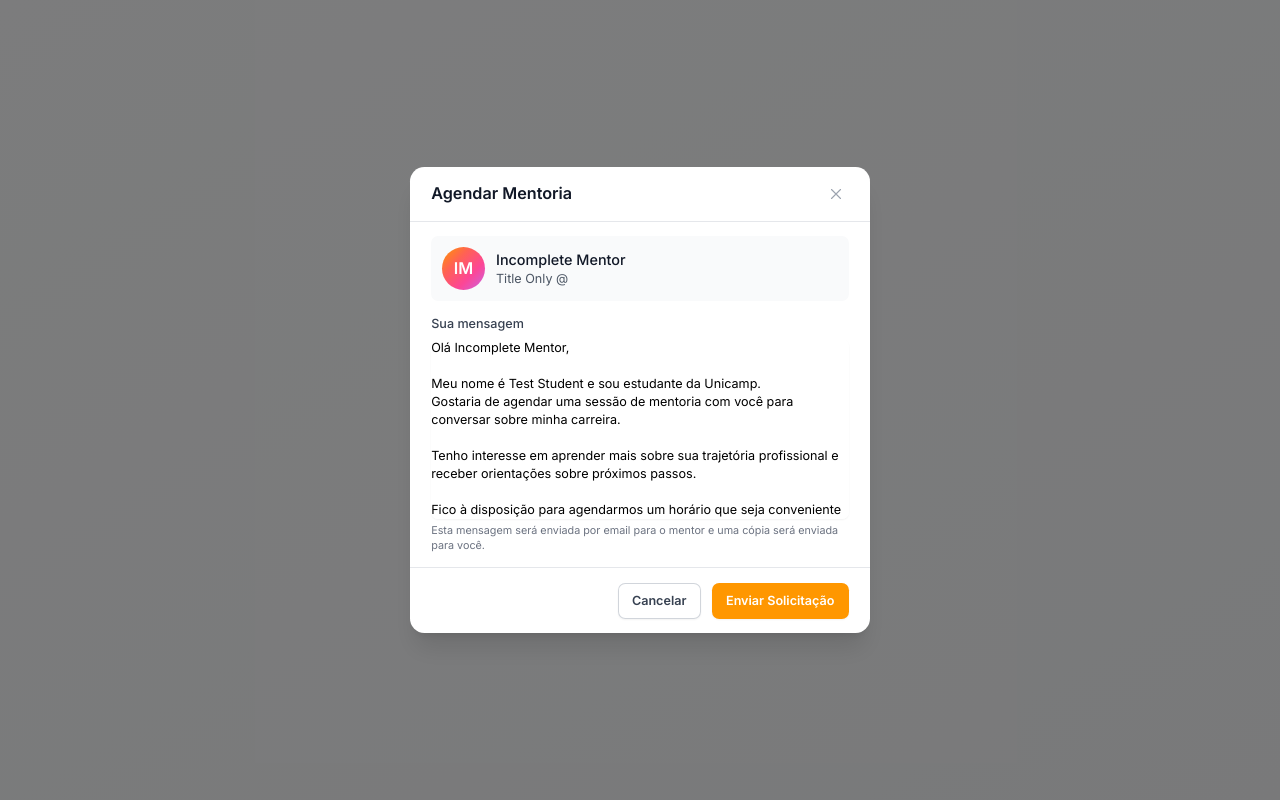
BookingModal › validation › shows error when multiple mentor fields are missing
Click the button "Enviar Solicitação": (780, 601) x1=712 y1=583 x2=849 y2=619
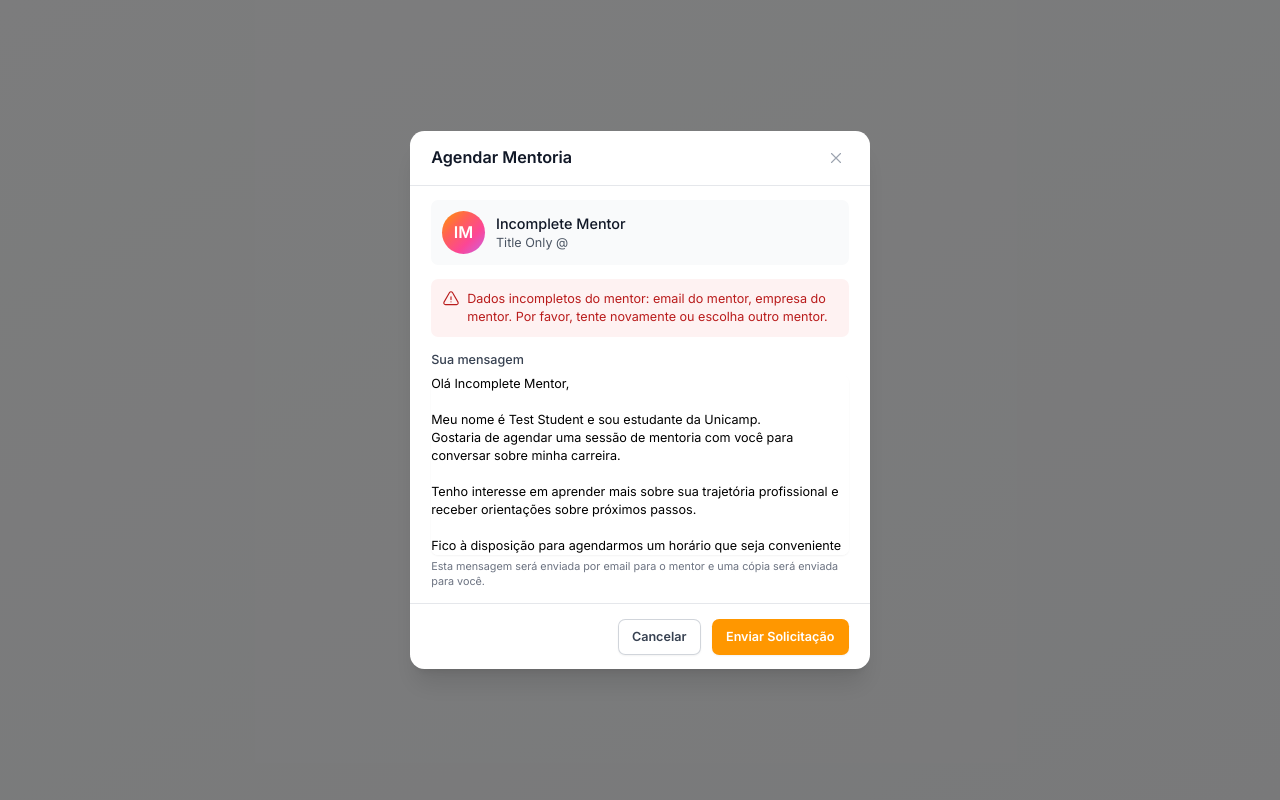
Result: the text "Dados incompletos do mentor" is shown at x1=467 y1=291 x2=828 y2=324
